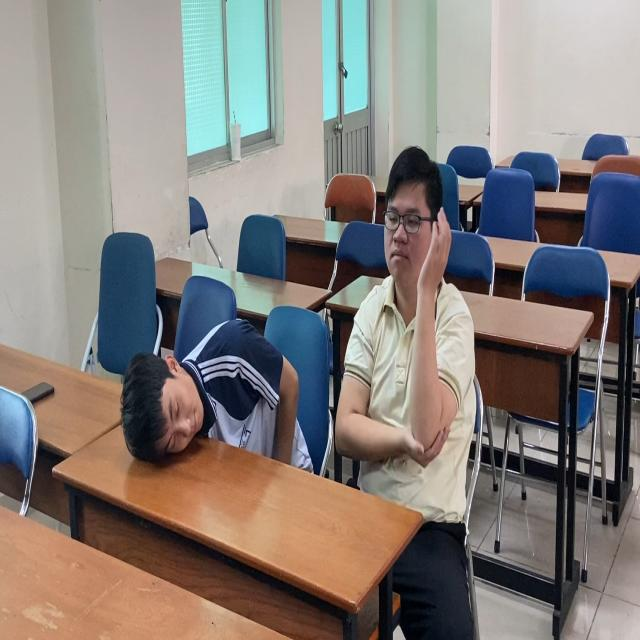raise_hand: (361, 142, 482, 481)
sleep: (113, 309, 307, 490)
